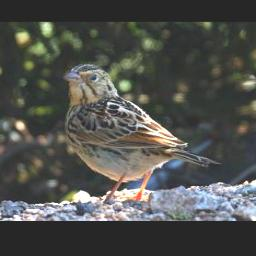Sparrow: (56, 58, 224, 205)
